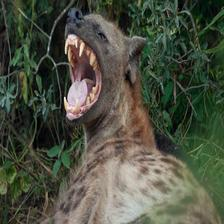hyena: (46, 5, 223, 224)
